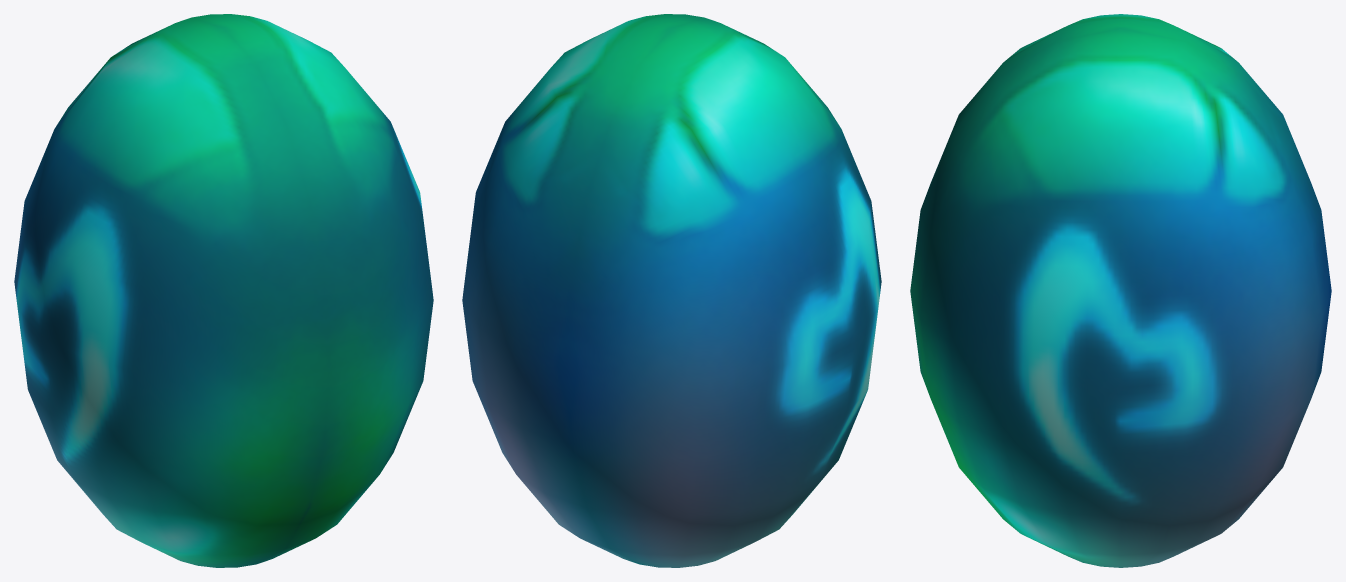
Rendered from scenes_common_jewel01b.FBX.
The picture shows the model from 3 angles, left to right: view 1: azimuth 30°, elevation 25°; view 2: azimuth 150°, elevation 25°; view 3: azimuth 270°, elevation 25°; orthographic projection.
Visible parts, largest first — view 1: scenes_common_jewel01b; view 2: scenes_common_jewel01b; view 3: scenes_common_jewel01b.
Boxes of the visible parts, box(x1,y1,x2,y2) form: scenes_common_jewel01b: box(14, 14, 433, 567); scenes_common_jewel01b: box(462, 14, 881, 567); scenes_common_jewel01b: box(910, 14, 1331, 567).
Size of the model in its own units: 25.13 by 34.52 by 25.13.
